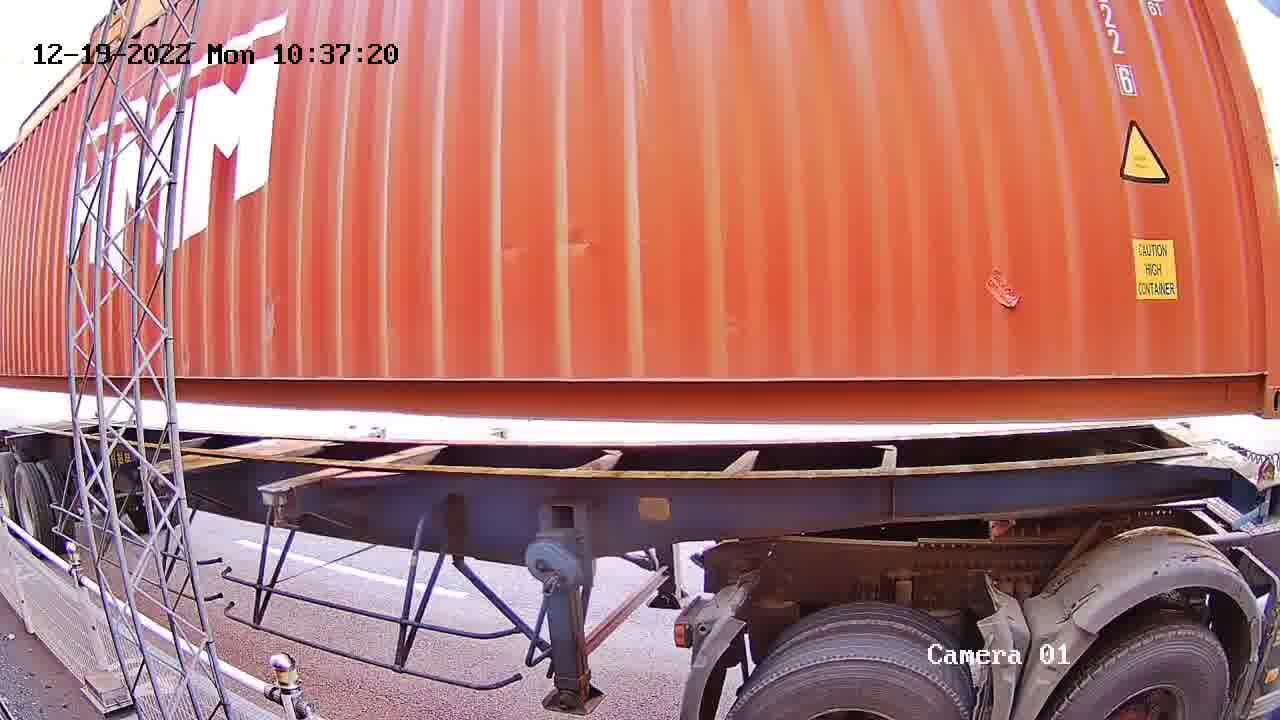Chassis: (1157, 421, 1279, 490)
Cone: (1249, 456, 1275, 526)
Hole_R: (1228, 357, 1279, 417)
Tire: (1062, 635, 1227, 718), (735, 657, 966, 716)
